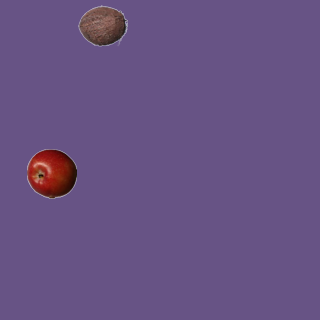Apple Braeburn: (26, 148, 76, 198)
Cocos: (77, 0, 127, 50)
